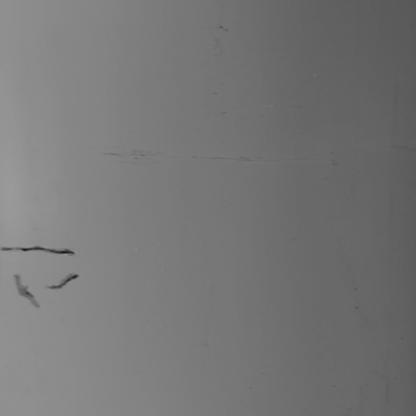fengxi: (1, 242, 75, 257), (12, 278, 42, 311), (49, 273, 78, 291)
